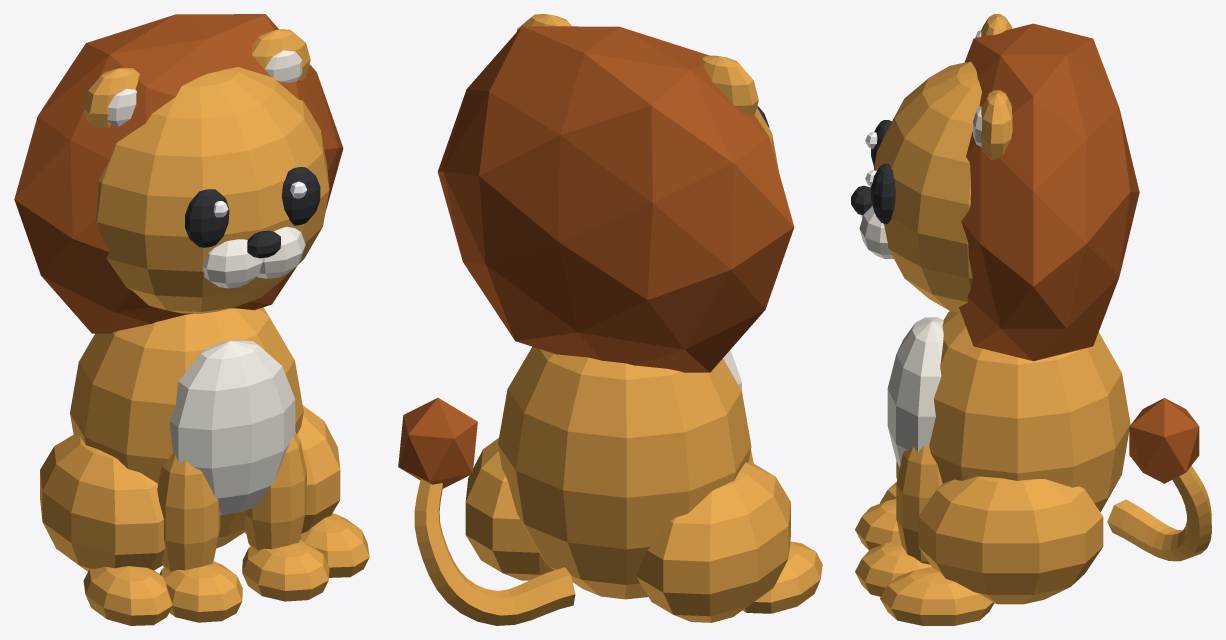
Rendered from lion-cub-pet.glb.
3 views of the same model, side by side, from view 1: azimuth 30°, elevation 25°; view 2: azimuth 150°, elevation 25°; view 3: azimuth 270°, elevation 25° (orthographic). The views are drawn at different scales.
Parts seen in each view (by area): view 1: LionCub; view 2: LionCub; view 3: LionCub.
Part boxes in pixels (left/top/right/bottom): LionCub: left=14, top=14, right=369, bottom=625; LionCub: left=398, top=14, right=822, bottom=625; LionCub: left=851, top=14, right=1211, bottom=625.
Bounding box in the file's own units: 1.72 × 2.6 × 1.64.
